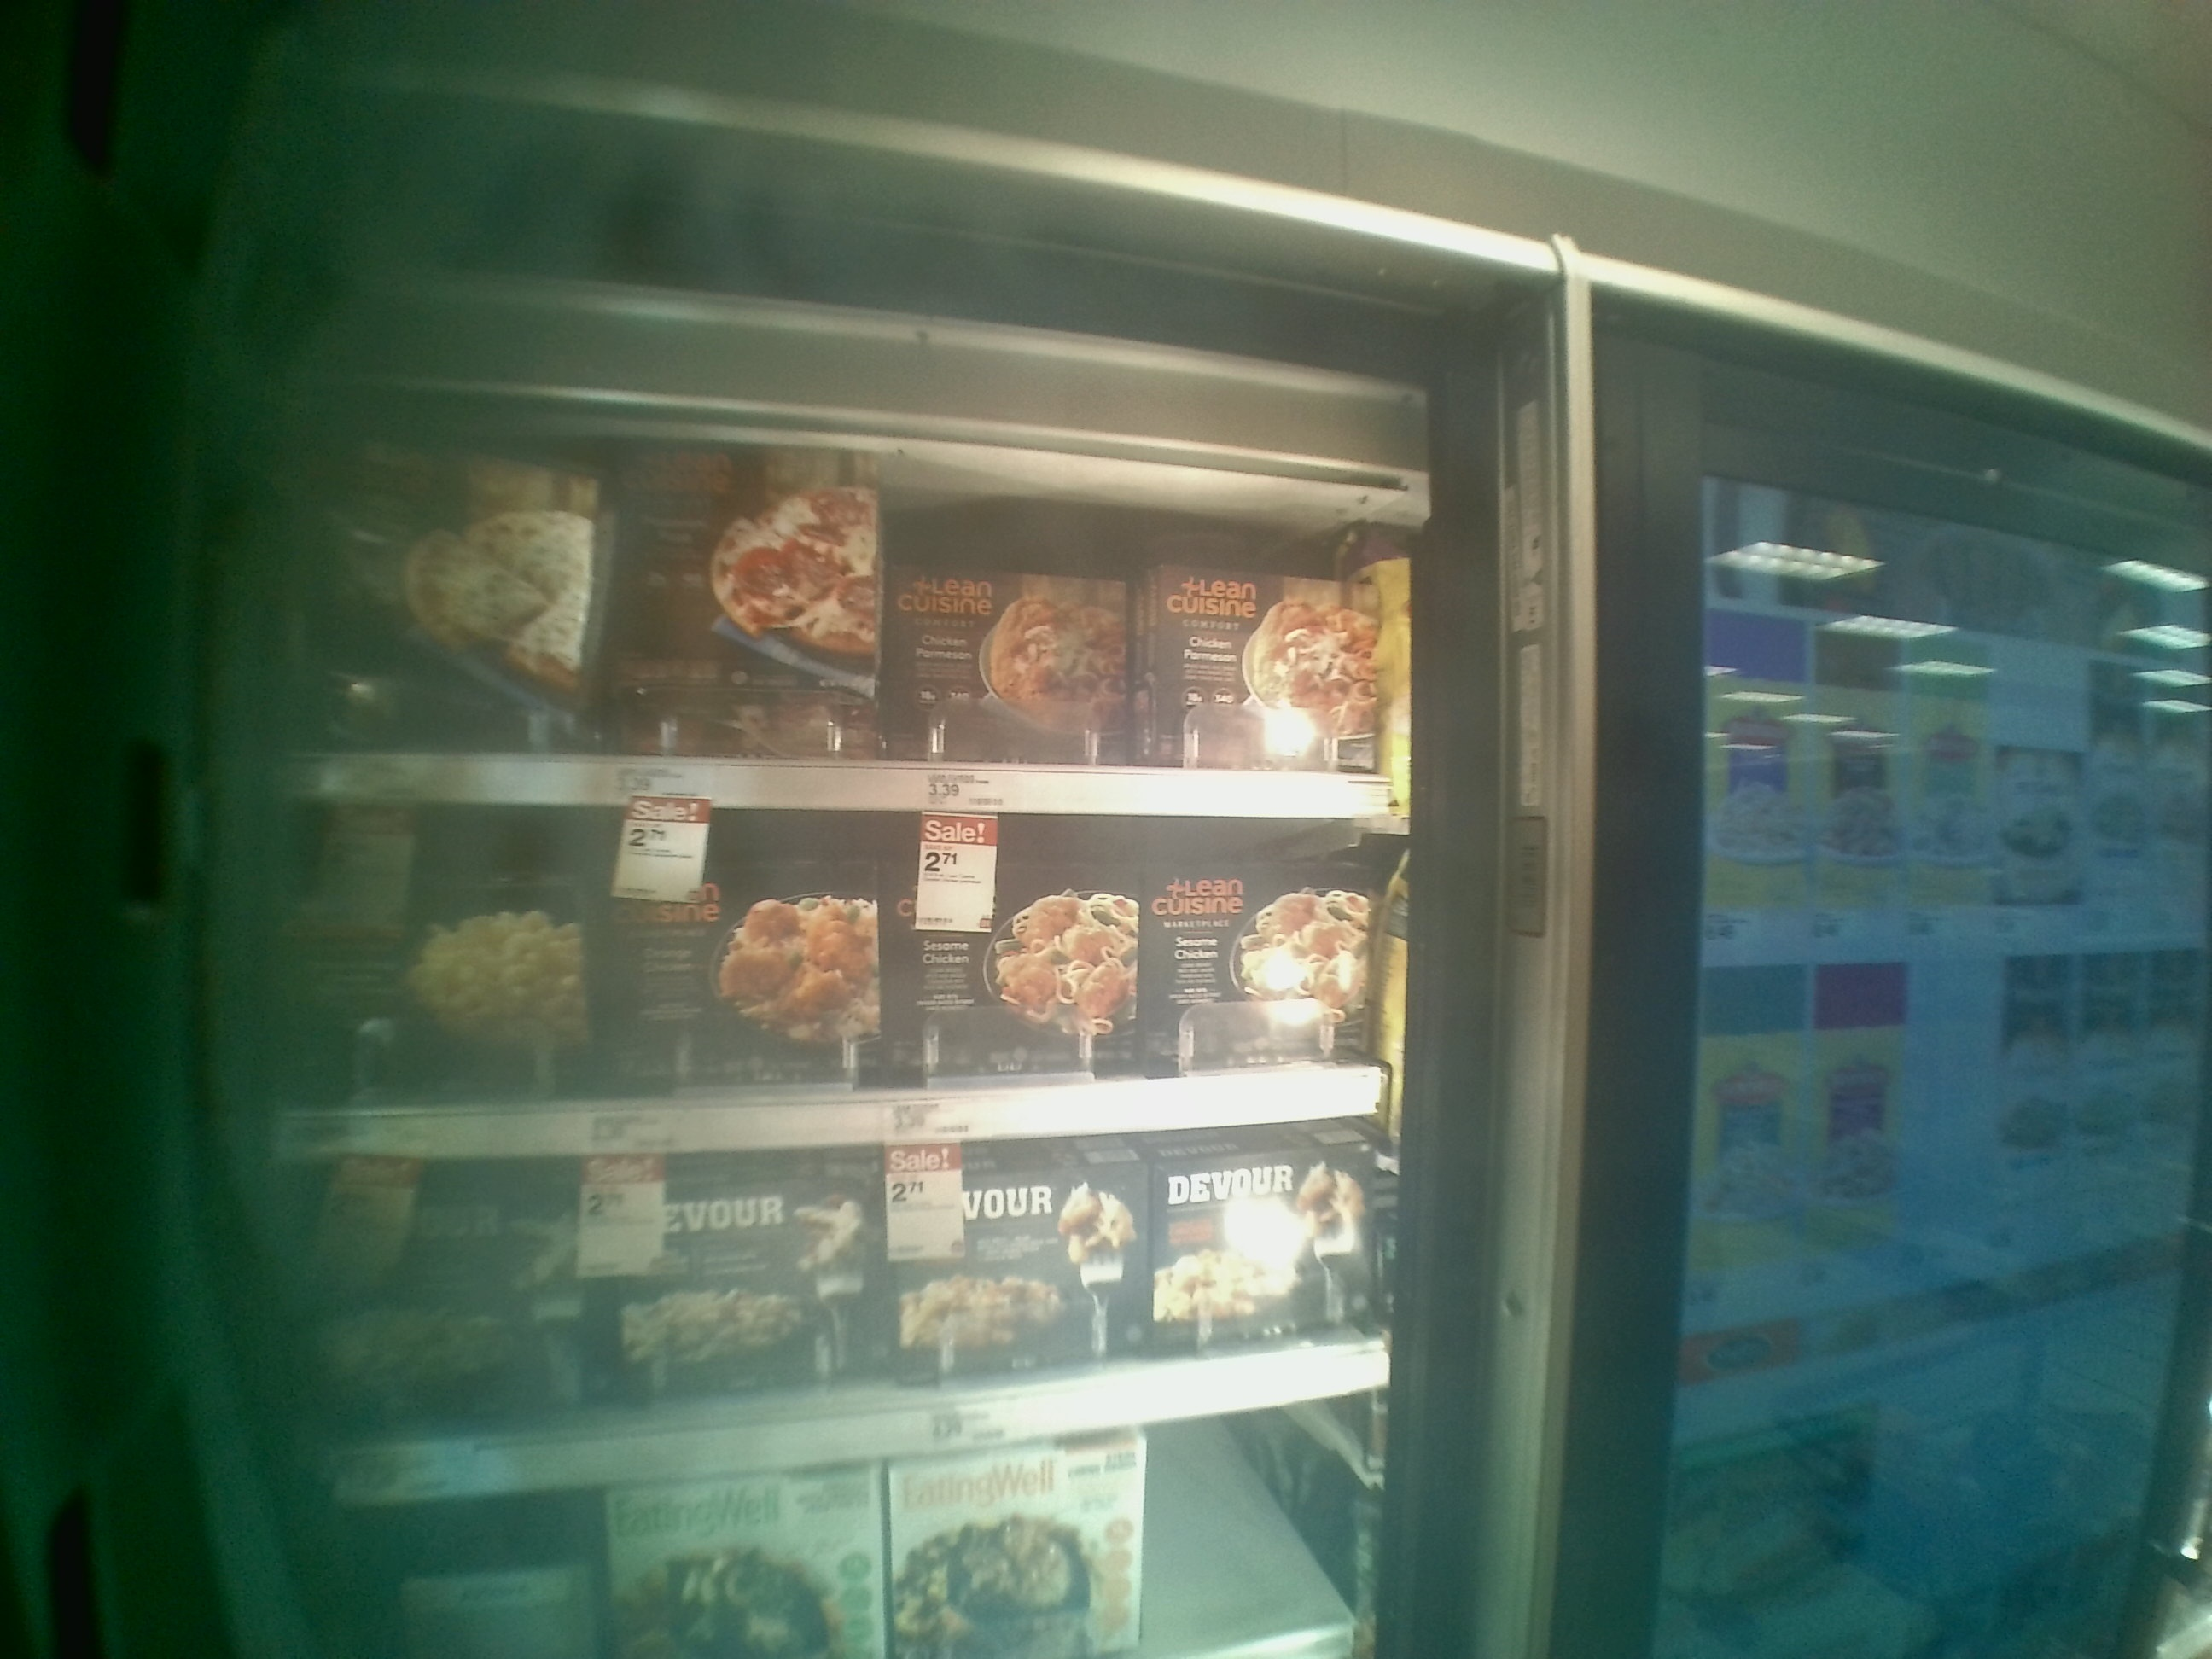shelf: (249, 385, 1420, 823), (249, 1112, 1416, 1506), (258, 805, 1413, 1155)
